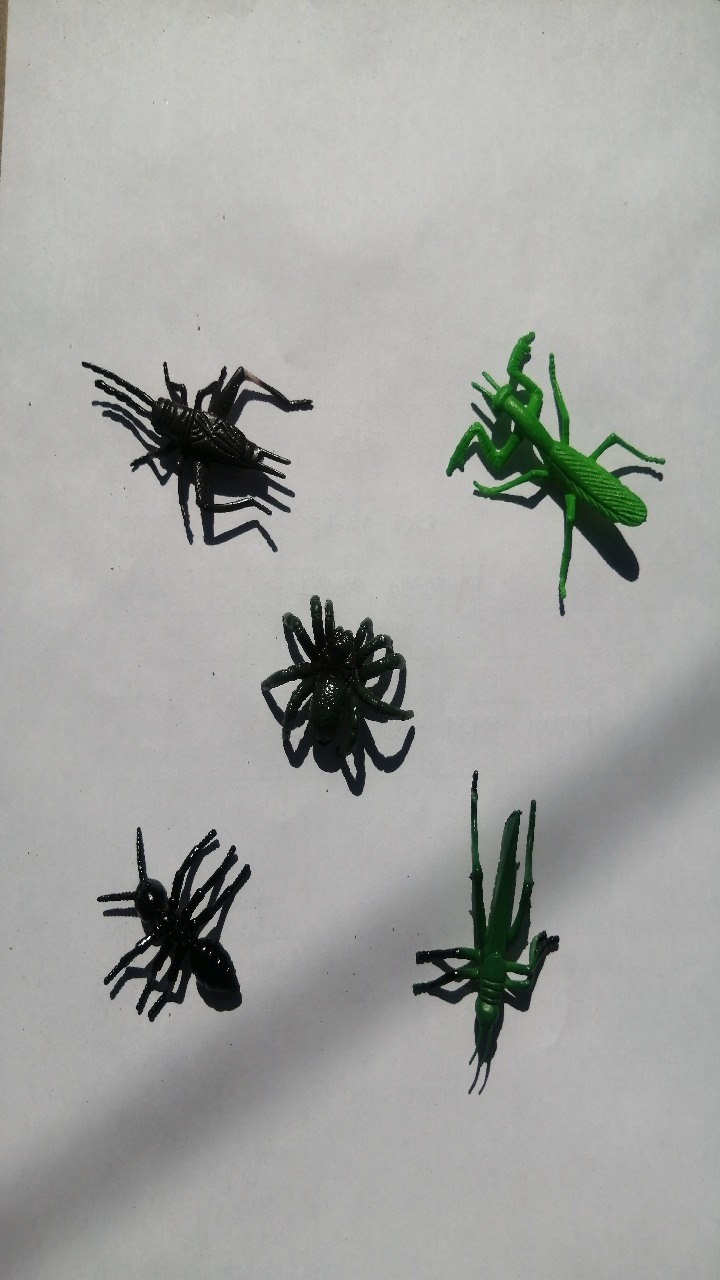intruso: (411, 282, 684, 612), (54, 312, 321, 574), (57, 789, 303, 1049), (406, 746, 589, 1092), (224, 563, 437, 825)
